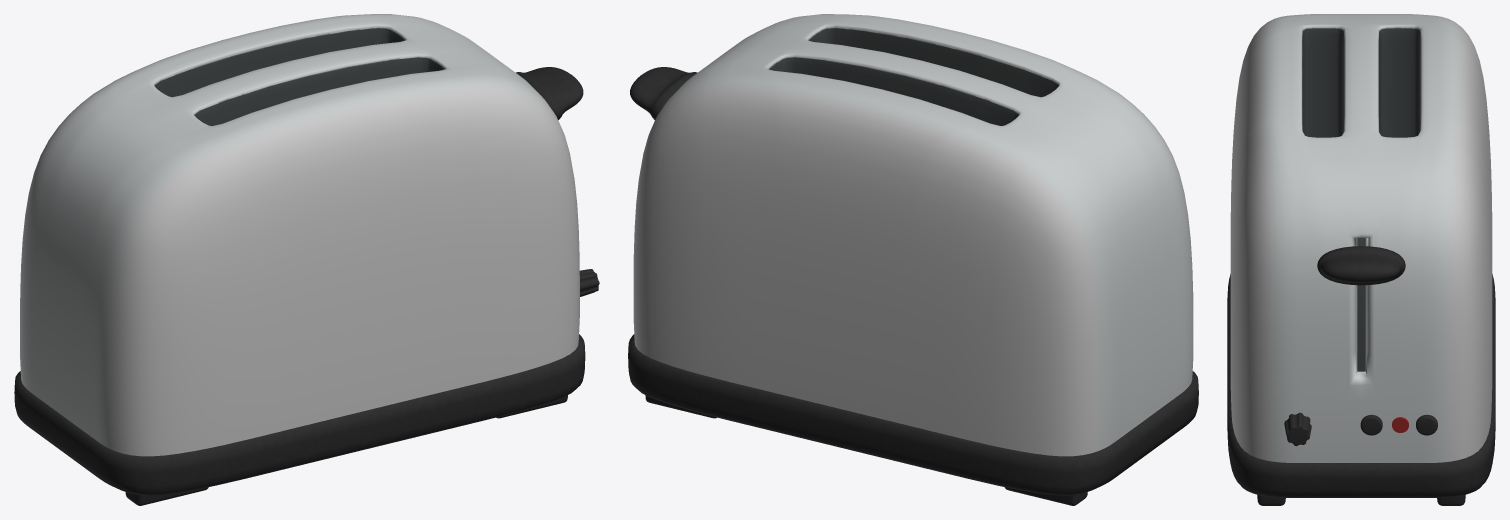
File: Toaster.fbx
The picture shows the model from 3 angles, left to right: view 1: azimuth 30°, elevation 25°; view 2: azimuth 150°, elevation 25°; view 3: azimuth 270°, elevation 25°; orthographic projection. The views are drawn at different scales.
Parts seen in each view (by area): view 1: Cube; view 2: Cube; view 3: Cube.
Boxes of the visible parts, box(x1,y1,x2,y2) form: Cube: box(14, 14, 599, 505); Cube: box(628, 14, 1198, 505); Cube: box(1227, 14, 1495, 505).
Bounding box in the file's own units: 33.68 × 22 × 15.94.
Materials: 1 (1 with a texture image).
